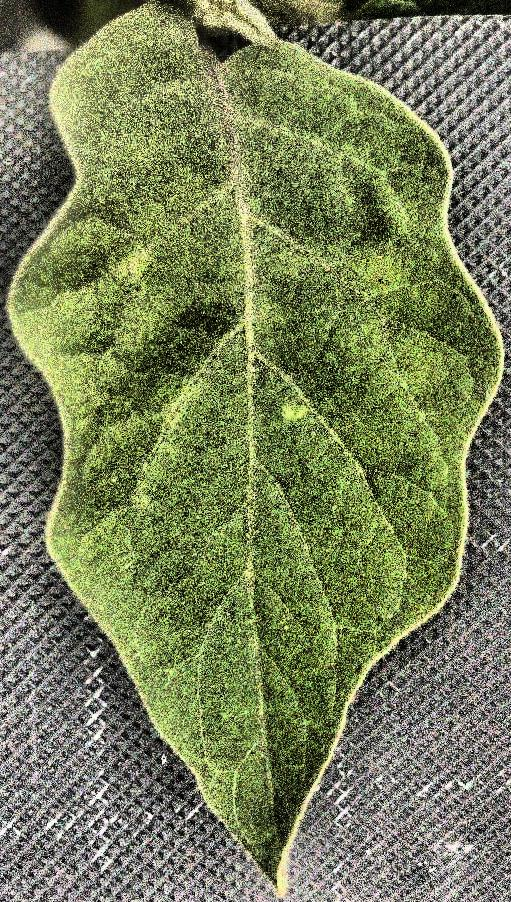HEALTHY: (0, 1, 511, 902)
